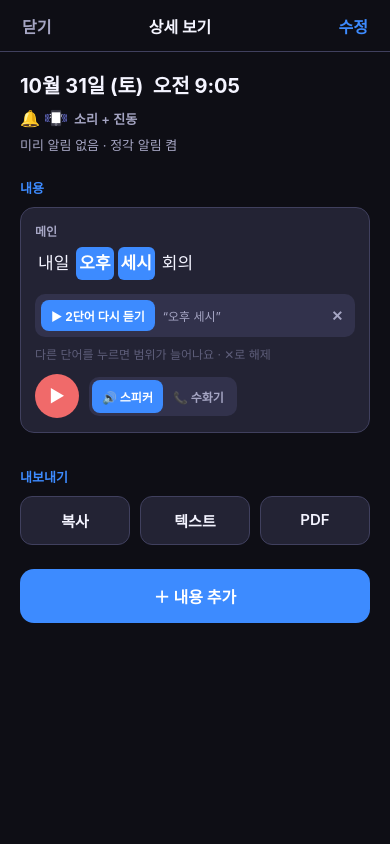
ScheduleDetail 범위선택 (길게 누른 채 끌기) › ✕를 누르면 선택이 해제되고 단어 탭은 다시 한 단어 재생으로 돌아온다
What coordinates should you click on to do the following:
click the element named "범위 해제"
I would click on:
 (337, 316)
Its box is x1=331 y1=307 x2=343 y2=324.
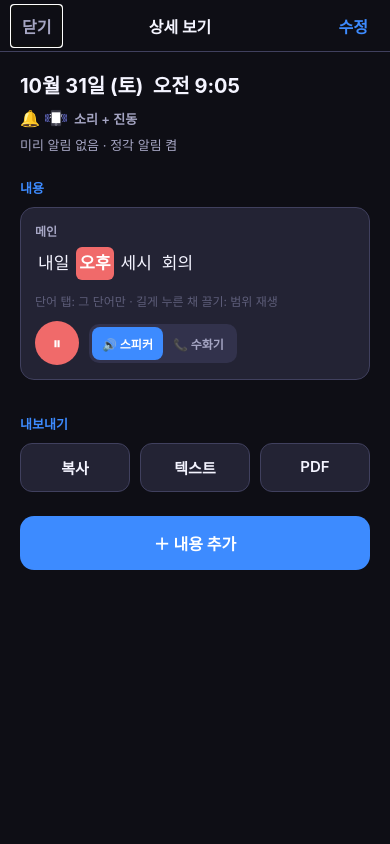
Expected: the text "다시 듣기" is gone
